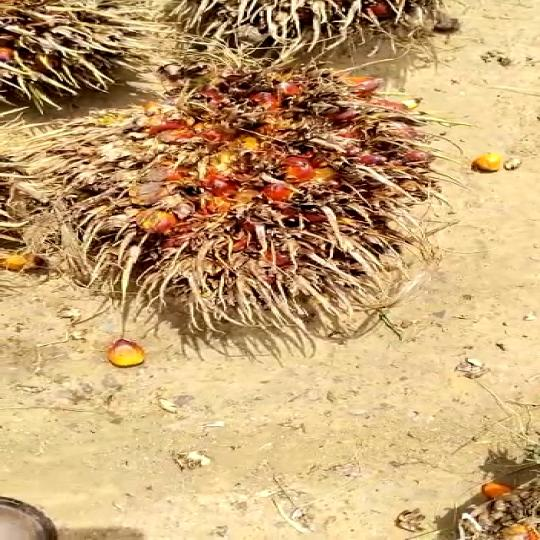terlalu masak: (0, 36, 456, 356)
